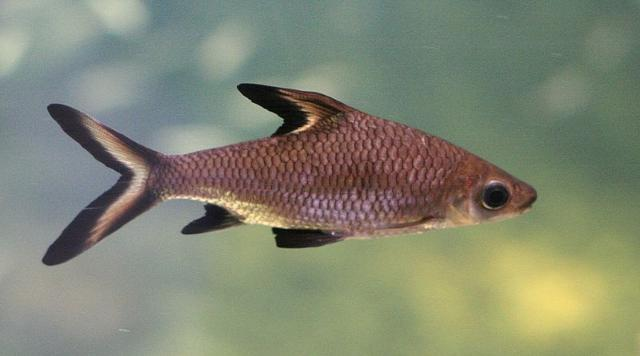Mulut: (474, 175, 560, 233)
Sirip Anal: (172, 194, 255, 252)
Sirip Dada: (363, 204, 451, 246)
Sirip Ekor: (33, 89, 177, 281)
Sirip Perut: (264, 218, 356, 266)
Sirip Punggung: (223, 71, 369, 149)
